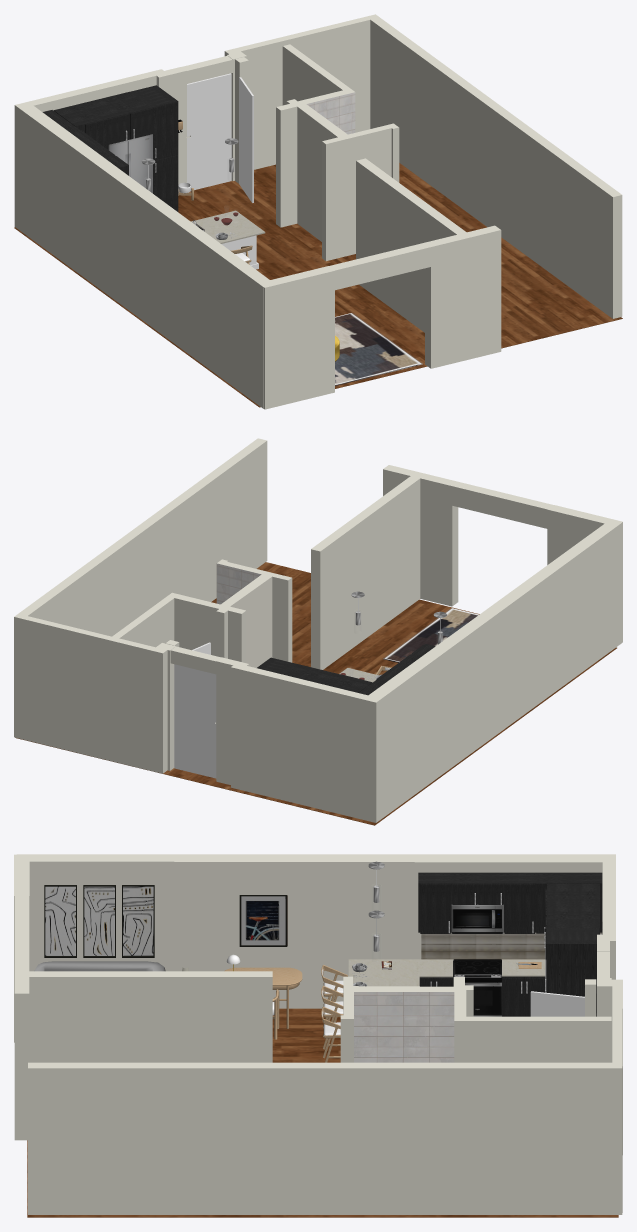
The model's file is WALLS GLB VECTARY5.glb.
3 views of the same model, one above another, from view 1: azimuth 30°, elevation 25°; view 2: azimuth 150°, elevation 25°; view 3: azimuth 270°, elevation 25° (orthographic). The views are drawn at different scales.
Visible parts, largest first — view 1: Line017, Line016, Box001, Line009, Box147, Box146, Box144, Box151, Box034, Box150, Box072, Box154 (+11 smaller); view 2: Line016, Line017, Box144, Line009, Box001, Box147, Box151, Box150, Box146, Box034, Box072, THE CHARLES TEST1 (+2 smaller); view 3: Line017, Line016, Box144, Line009, THE CHARLES TEST1, Box001, Buffer Object (×4), Box213, Box058, Box055, Box147, Box072 (+16 smaller).
Boxes of the visible parts, left/top/right/bottom form: Line017: left=224, top=14, right=622, bottom=318; Line016: left=14, top=67, right=276, bottom=408; Box001: left=14, top=163, right=622, bottom=407; Line009: left=276, top=44, right=399, bottom=261; Box147: left=425, top=225, right=501, bottom=368; Box146: left=263, top=266, right=334, bottom=409; Box144: left=356, top=158, right=467, bottom=332; Box151: left=187, top=73, right=231, bottom=190; Box034: left=335, top=313, right=422, bottom=385; Box150: left=328, top=242, right=430, bottom=290; Box072: left=53, top=92, right=151, bottom=149; Box154: left=239, top=77, right=253, bottom=202; Line016: left=216, top=521, right=622, bottom=822; Line017: left=14, top=438, right=267, bottom=773; Box144: left=311, top=475, right=420, bottom=669; Line009: left=112, top=559, right=292, bottom=667; Box001: left=15, top=562, right=616, bottom=825; Box147: left=383, top=465, right=458, bottom=606; Box151: left=174, top=664, right=216, bottom=778; Box150: left=452, top=481, right=553, bottom=528; Box146: left=547, top=505, right=622, bottom=642; Box034: left=383, top=608, right=478, bottom=662; Box072: left=283, top=664, right=372, bottom=692; THE CHARLES TEST1: left=216, top=563, right=261, bottom=604; Line017: left=28, top=978, right=622, bottom=1214; Line016: left=16, top=854, right=615, bottom=1008; Box144: left=26, top=971, right=272, bottom=1062; Line009: left=340, top=976, right=611, bottom=1062; THE CHARLES TEST1: left=241, top=896, right=454, bottom=1062; Box001: left=27, top=1008, right=618, bottom=1217; Buffer Object (×4): left=34, top=959, right=501, bottom=1062; Box213: left=421, top=922, right=602, bottom=959; Box058: left=547, top=928, right=599, bottom=1016; Box055: left=418, top=872, right=602, bottom=932; Box147: left=14, top=952, right=29, bottom=1140; Box072: left=547, top=883, right=599, bottom=934.
Bounding box in the file's own units: 1.02 × 0.3595 × 1.23.
167 materials, 128 textured.
